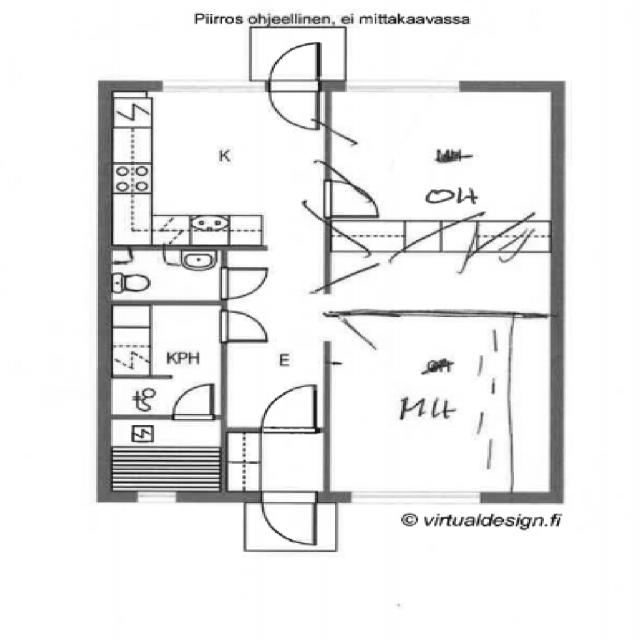door: (262, 40, 324, 130), (251, 487, 324, 548), (217, 261, 270, 343), (256, 380, 324, 436), (318, 176, 374, 221), (214, 264, 272, 302), (218, 307, 272, 346), (170, 381, 219, 422)
window: (344, 482, 485, 510), (338, 75, 470, 98), (151, 74, 262, 98), (128, 489, 184, 507)
zone: (323, 310, 557, 496), (105, 86, 329, 246), (321, 87, 560, 226), (106, 301, 225, 419), (102, 415, 226, 497), (103, 246, 225, 304)
